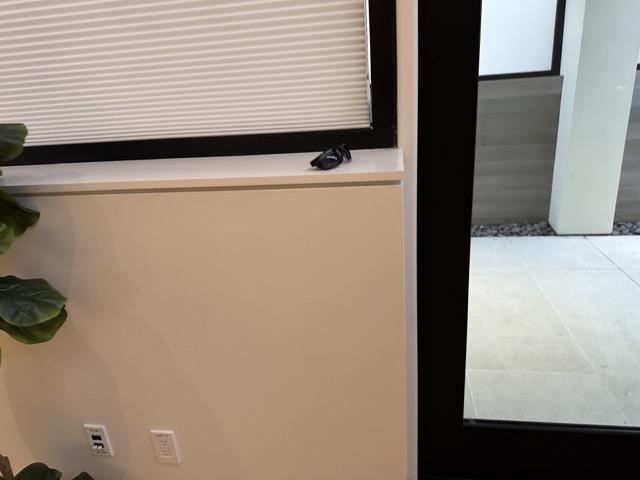Sunglasses: (310, 142, 353, 170)
